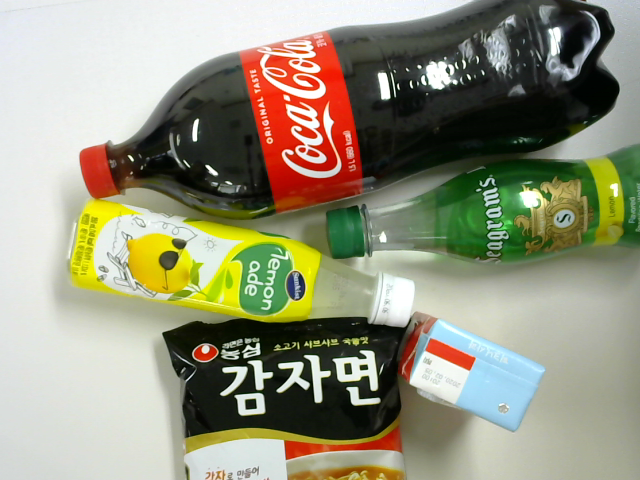Coca_Cola_1.5L: (71, 2, 619, 218)
Picnic_Apple: (401, 318, 547, 438)
Potato: (167, 324, 419, 480)
Seagram_Lemon_Carbonated_Water: (317, 146, 640, 267)
Sunkist_Lemonaid_Pet: (59, 192, 419, 334)
